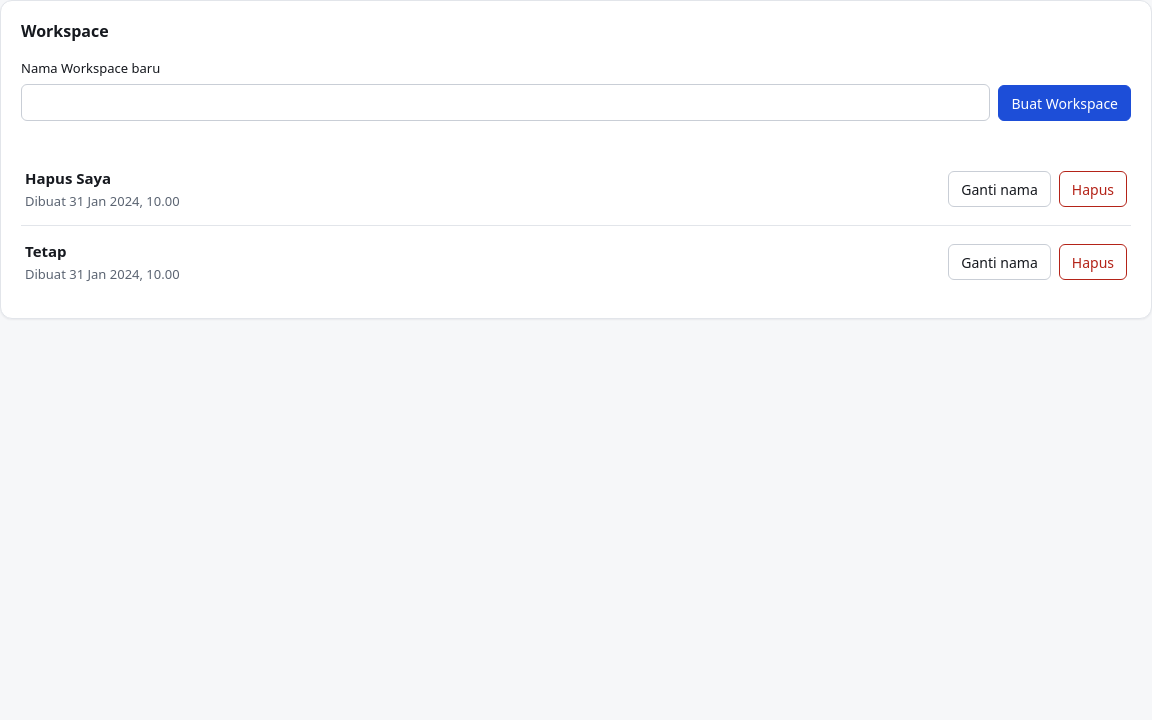
Test: WorkspaceList › menghapus hanya setelah nama konfirmasi sama persis (Req 1.4)
This screenshot has width=1152, height=720.
Click the button with aria-label "Hapus Hapus Saya" at coordinates (1093, 189), box left=1059, top=171, right=1127, bottom=207
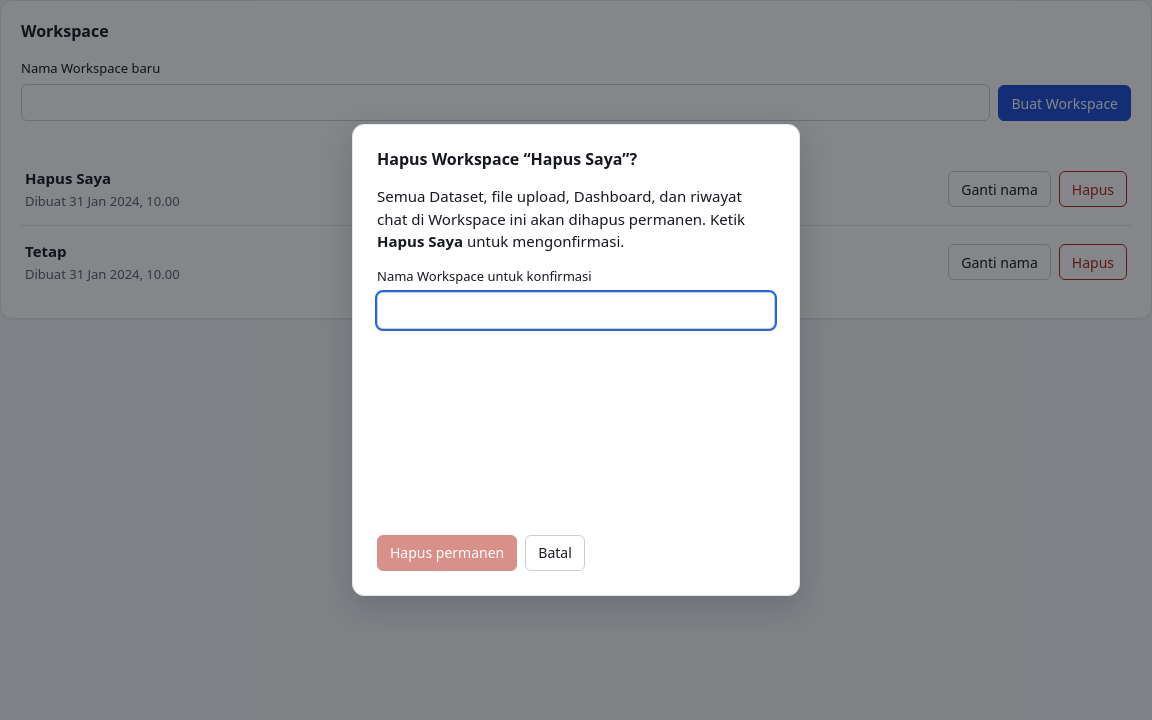
Type "hapus saya" into the field labelled "Nama Workspace untuk konfirmasi" at coordinates (576, 311), box left=377, top=292, right=775, bottom=329
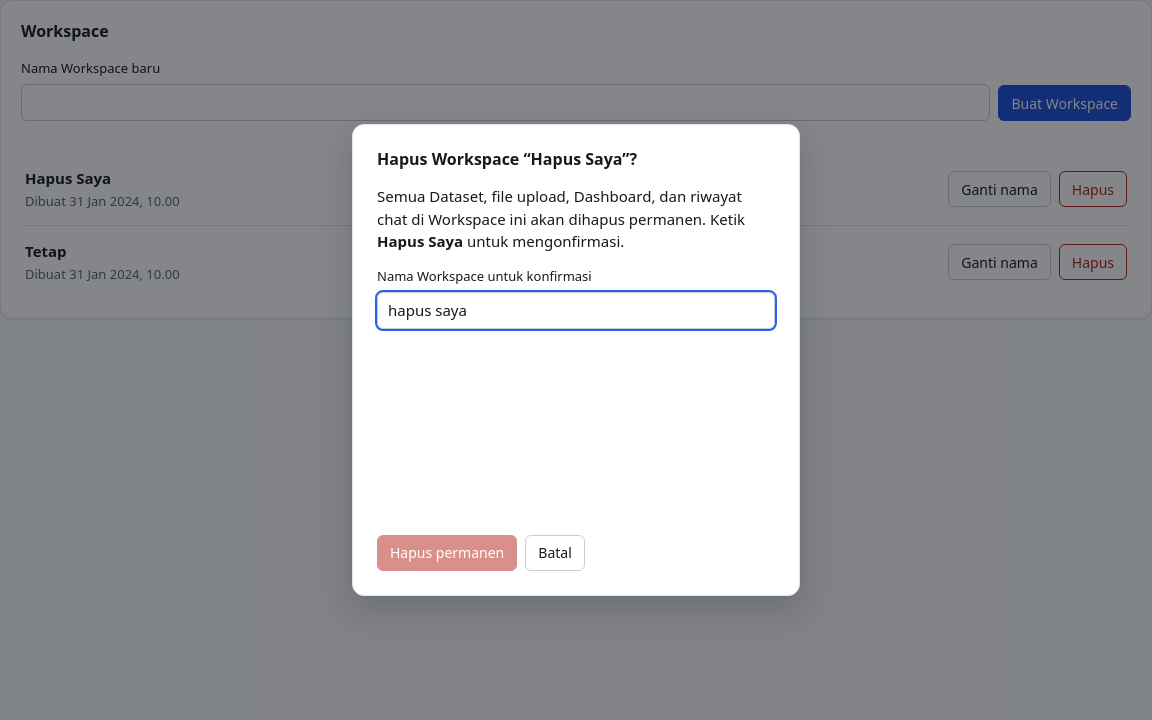
expect the button "Hapus permanen" is disabled: met, box left=377, top=534, right=517, bottom=570
Replace the text in the field labelled "Nama Workspace untuk konfirmasi" with "Hapus Saya " at coordinates (576, 311), box left=377, top=292, right=775, bottom=329
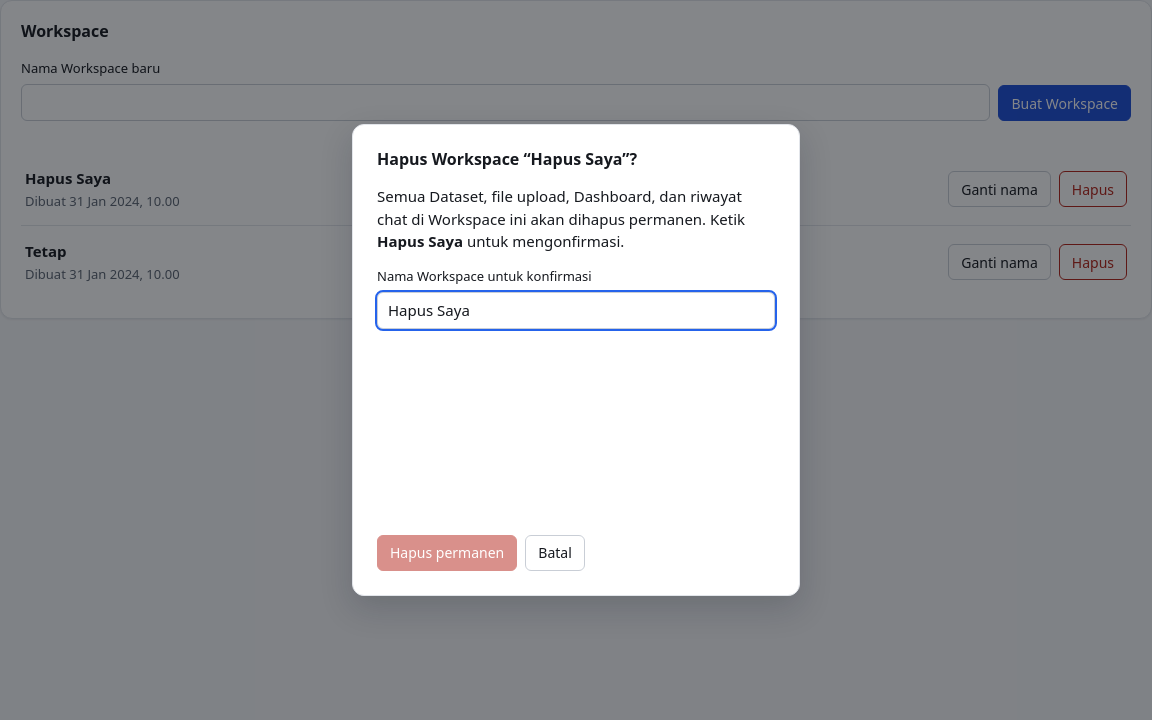
expect the button "Hapus permanen" is disabled: met, box left=377, top=534, right=517, bottom=570
Replace the text in the field labelled "Nama Workspace untuk konfirmasi" with "Tetap" at coordinates (576, 311), box left=377, top=292, right=775, bottom=329
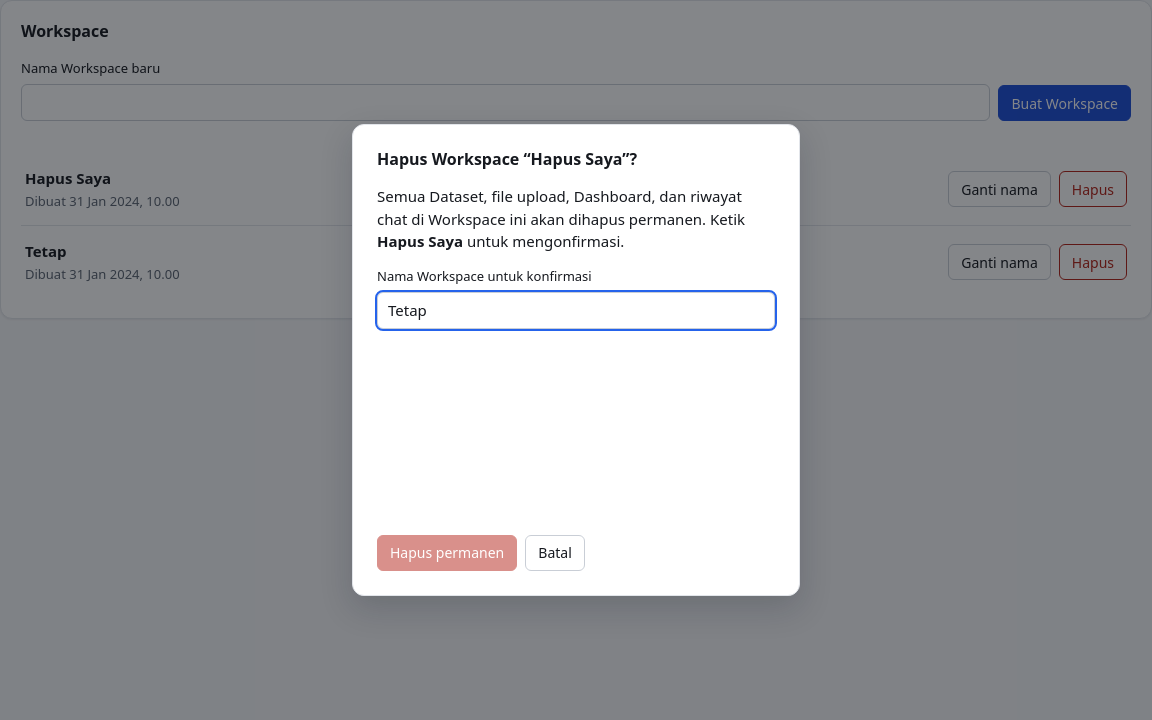
expect the button "Hapus permanen" is disabled: met, box left=377, top=534, right=517, bottom=570
Replace the text in the field labelled "Nama Workspace untuk konfirmasi" with "Hapus Saya" at coordinates (576, 311), box left=377, top=292, right=775, bottom=329
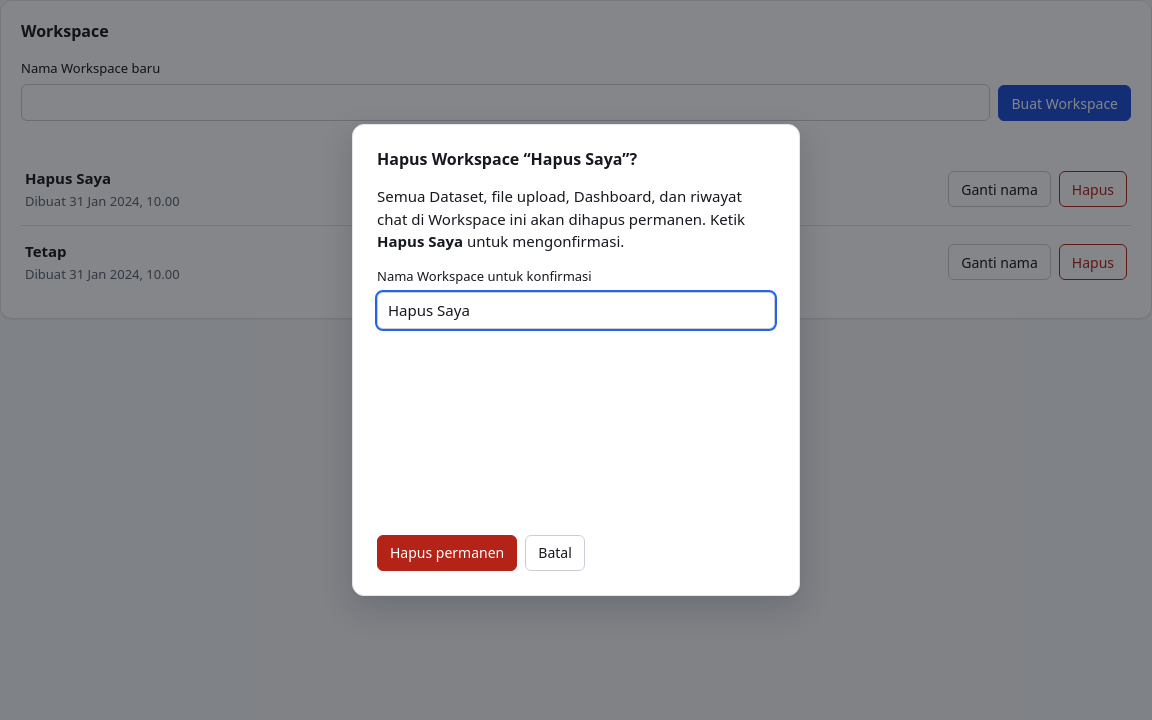
expect the button "Hapus permanen" is enabled: met
Click the button "Hapus permanen" at coordinates (447, 552), box left=377, top=534, right=517, bottom=570
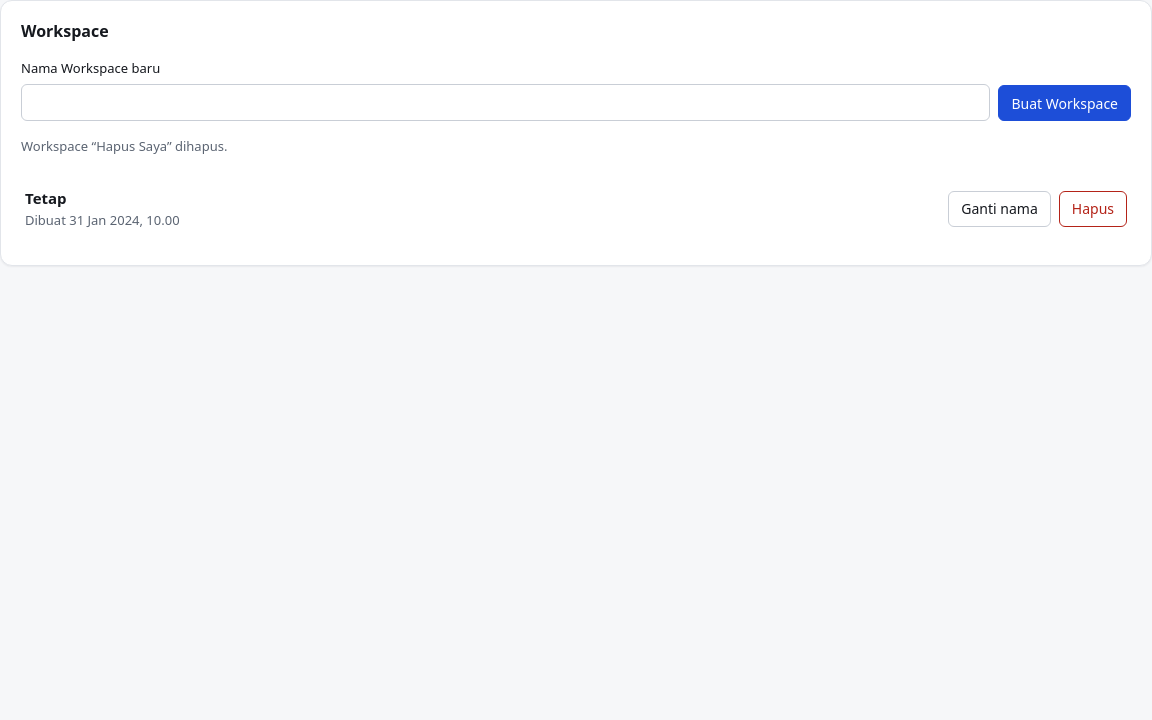
expect the link "Tetap" is shown: met, box left=25, top=188, right=67, bottom=208
expect the text "Workspace “Hapus Saya” dihapus." is shown: met, box left=21, top=137, right=227, bottom=155
expect the dialog is gone: met
